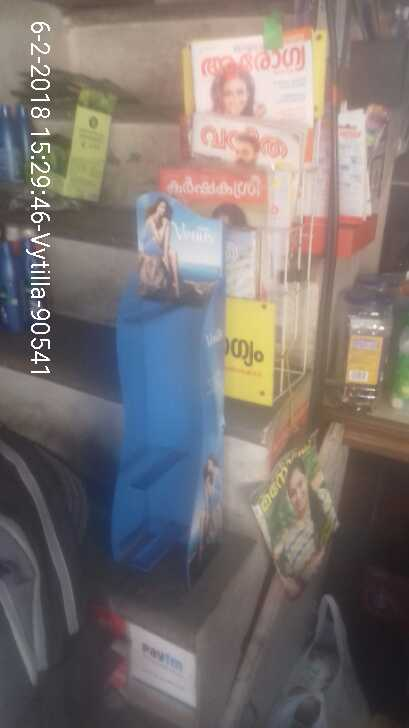reject: (149, 281, 258, 403)
